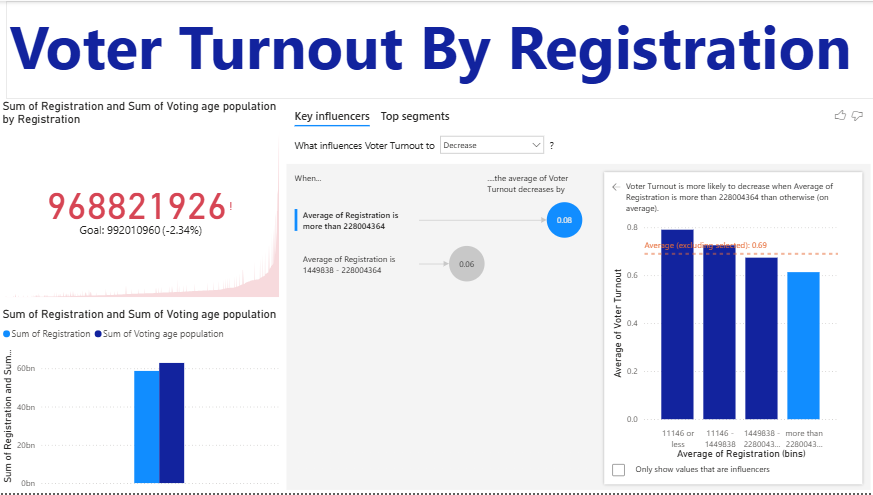

This screenshot's page, from the dashboard's own definition file:
{"tool":"powerbi","page":{"name":"Page 3","canvas":[1280,720],"ordinal":2},"visuals":[{"type":"textbox","box":[10,0,1270,143.3],"z":0},{"type":"kpi","fields":{"Goal":["Sum(cleaned_voter_turnout_with_country.Voting age population)"],"Indicator":["Sum(cleaned_voter_turnout_with_country.Registration)"],"TrendLine":["cleaned_voter_turnout_with_country.Registration"]},"box":[0,143.3,415,295],"z":1000},{"type":"clusteredColumnChart","fields":{"Y":["Sum(cleaned_voter_turnout_with_country.Registration)","Sum(cleaned_voter_turnout_with_country.Voting age population)"]},"box":[0,448,415,272],"z":2000},{"type":"keyDriversVisual","fields":{"Target":["cleaned_voter_turnout_with_country.Voter Turnout"],"ExplainBy":["Avg(cleaned_voter_turnout_with_country.Registration)"]},"box":[415.6,143.4,864.9,576.6],"z":3000}]}

Visuals, with their boxes in screenshot pixels (x1, y1, x2, y2), scaled from the page's 1280x720 canvas onto the 873x495 screenshot:
textbox: 7,0,872,99
kpi - Sum(cleaned_voter_turnout_with_country.Voting age population) x Sum(cleaned_voter_turnout_with_country.Registration): 0,99,283,301
clusteredColumnChart - Sum(cleaned_voter_turnout_with_country.Registration) x Sum(cleaned_voter_turnout_with_country.Voting age population): 0,308,283,494
keyDriversVisual - cleaned_voter_turnout_with_country.Voter Turnout x Avg(cleaned_voter_turnout_with_country.Registration): 283,99,872,494
